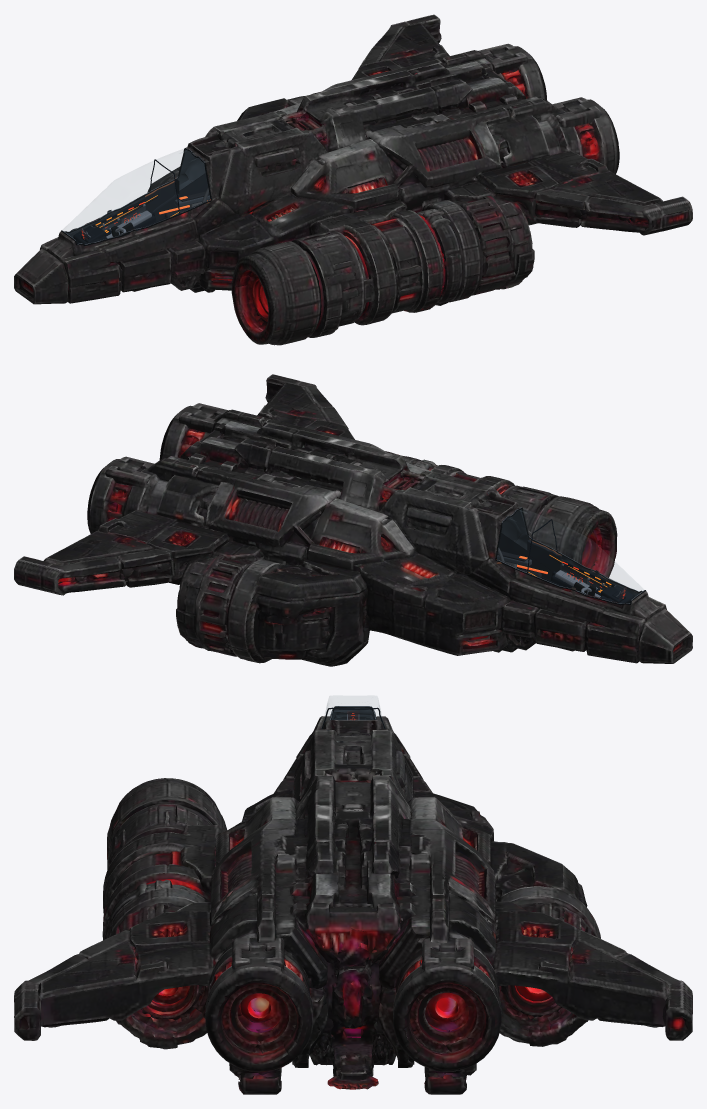
Rendered from summoners_ship.glb.
3 renders of one model, top to bottom at view 1: azimuth 30°, elevation 25°; view 2: azimuth 150°, elevation 25°; view 3: azimuth 270°, elevation 25°, orthographic. The views are drawn at different scales.
Parts seen in each view (by area): view 1: Pyro_Hull_01_Glazed, Pyro_Windshield_Glass, LIN13_pyro_ConformalCabinShell, Pyro_v04_BackrestShell, GL11_pyro_CanopyGasket_0, GL11_pyro_AftCanopyArch, GL11_pyro_CanopyFrame_0; view 2: Pyro_Hull_01_Glazed, Pyro_Windshield_Glass, LIN13_pyro_ConformalCabinShell, Pyro_v04_BackrestShell, GL11_pyro_AftCanopyArch, GL11_pyro_CanopyGasket_0, GL11_pyro_CanopyFrame_0; view 3: Pyro_Hull_01_Glazed, Pyro_Windshield_Glass.
Boxes of the visible parts, bbox=[...] form: Pyro_Hull_01_Glazed: bbox=[14, 14, 692, 345]; Pyro_Windshield_Glass: bbox=[63, 149, 196, 230]; LIN13_pyro_ConformalCabinShell: bbox=[66, 142, 235, 273]; Pyro_v04_BackrestShell: bbox=[145, 173, 208, 221]; GL11_pyro_CanopyGasket_0: bbox=[61, 148, 211, 245]; GL11_pyro_AftCanopyArch: bbox=[73, 159, 179, 246]; GL11_pyro_CanopyFrame_0: bbox=[61, 148, 210, 244]; Pyro_Hull_01_Glazed: bbox=[14, 374, 692, 666]; Pyro_Windshield_Glass: bbox=[510, 509, 643, 590]; LIN13_pyro_ConformalCabinShell: bbox=[466, 492, 638, 650]; Pyro_v04_BackrestShell: bbox=[498, 533, 561, 580]; GL11_pyro_AftCanopyArch: bbox=[527, 519, 633, 603]; GL11_pyro_CanopyGasket_0: bbox=[495, 507, 646, 605]; GL11_pyro_CanopyFrame_0: bbox=[497, 507, 644, 603]; Pyro_Hull_01_Glazed: bbox=[14, 712, 692, 1094]; Pyro_Windshield_Glass: bbox=[323, 696, 382, 721].
Bounding box in the file's own units: 1.9 × 0.5246 × 1.59.
Materials: 21 (1 with a texture image).
